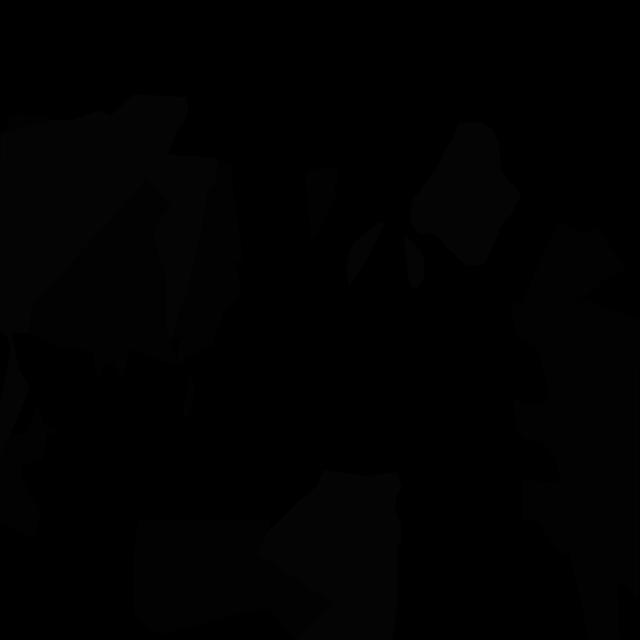cardboard: (510, 299, 640, 600), (29, 179, 177, 380), (133, 519, 332, 640), (172, 160, 242, 363), (522, 221, 627, 305), (0, 405, 57, 537), (569, 551, 620, 640), (305, 168, 338, 241), (1, 113, 54, 132), (182, 374, 196, 422)
soft_plastic: (0, 110, 126, 455), (110, 94, 218, 342), (258, 470, 402, 640), (410, 122, 520, 266), (346, 222, 386, 287), (404, 234, 425, 289)
